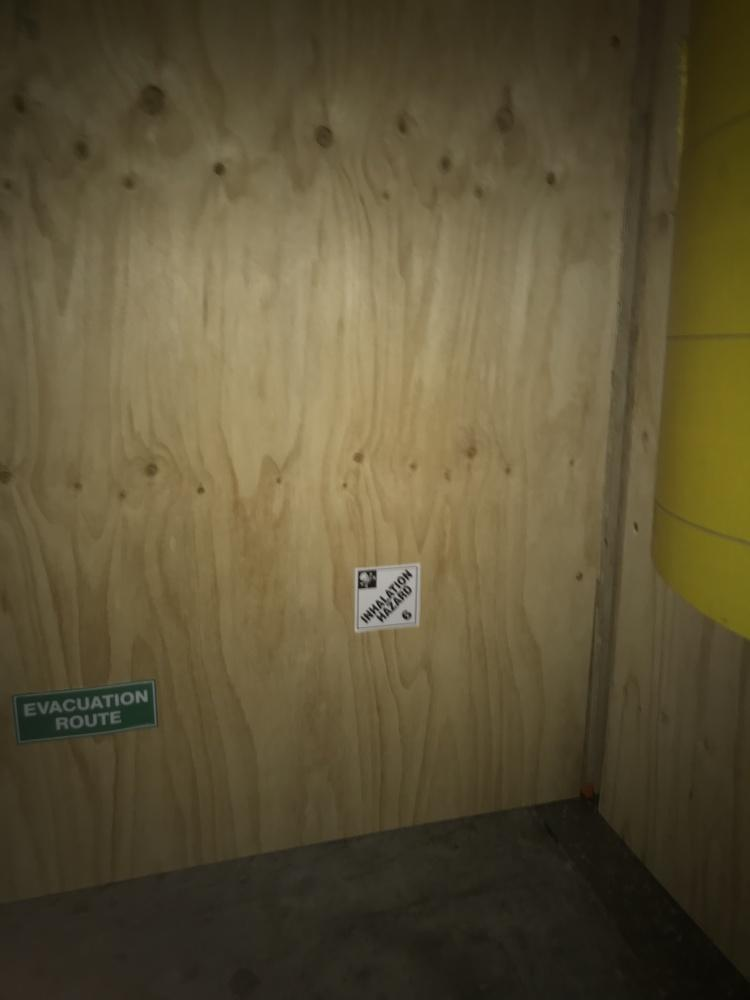poison: (355, 563, 421, 633)
